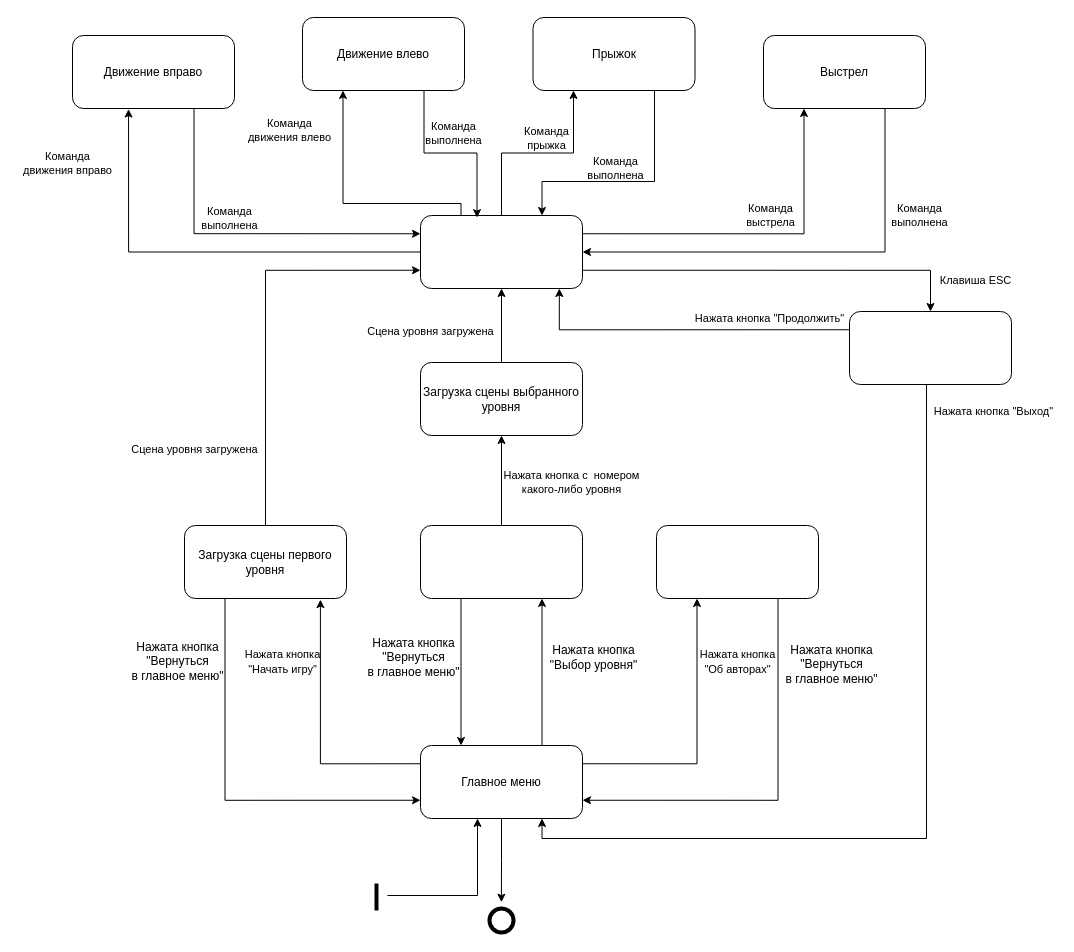
The diagram is 1074 pixels wide and 952 high, and some of its shapes have lost their labels. Each missing label, with the centre of its shape:
Загрузка меню выбора уровня: point 501,561
Загрузка страницы "Об авторах": point 737,561
Меню паузы: point 930,347
Ожидание команды пользователя: point 501,251
